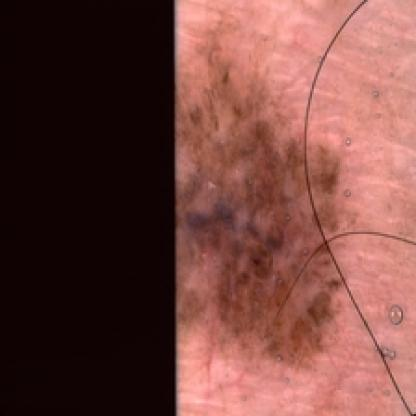Skin_Cancer-Malignant: (174, 38, 342, 377)
